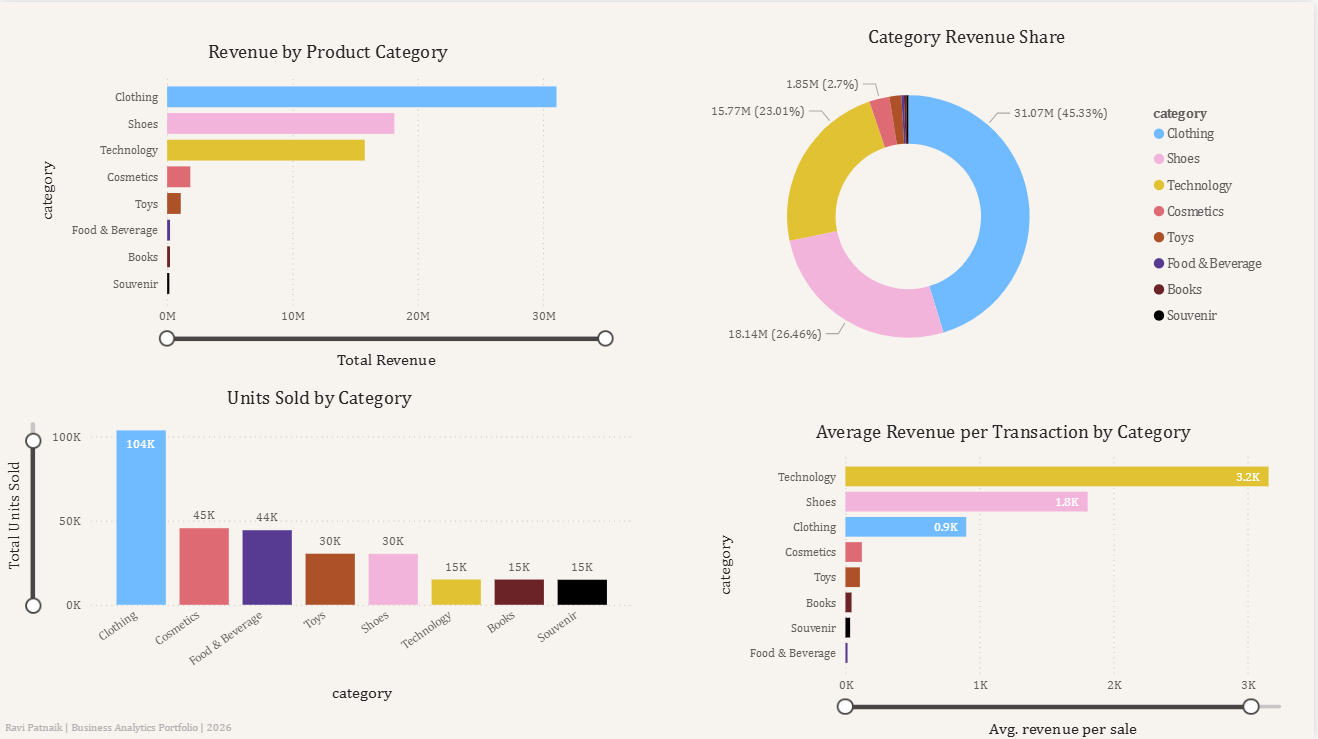

Layout of this report page (visuals, bound fields, positions):
{"tool":"powerbi","page":{"name":"Product Performance","canvas":[1280,720],"ordinal":2},"visuals":[{"type":"clusteredBarChart","title":"Revenue by Product Category","fields":{"Category":["customer_shopping_cleaned.category"],"Y":["Sum(customer_shopping_cleaned.price)"]},"box":[32.2,36.8,574.8,323.4],"z":0},{"type":"donutChart","title":"Category Revenue Share","fields":{"Category":["customer_shopping_cleaned.category"],"Y":["Sum(customer_shopping_cleaned.price)"]},"box":[640.9,22.3,601.9,351.1],"z":1000},{"type":"clusteredColumnChart","title":"Units Sold by Category","fields":{"Category":["customer_shopping_cleaned.category"],"Y":["Sum(customer_shopping_cleaned.quantity)"]},"box":[0,374.4,622.2,312.2],"z":2000},{"type":"clusteredBarChart","title":"Average Revenue per Transaction by Category","fields":{"Category":["customer_shopping_cleaned.category"],"Y":["Avg(customer_shopping_cleaned.price)"]},"box":[692.8,407.7,568.7,311.2],"z":3000},{"type":"textbox","box":[0,693.3,243.3,26.7],"z":4000}]}

Visuals, with their boxes in screenshot pixels (x1, y1, x2, y2), scaled from the page's 1280x720 canvas onto the 1318x739 screenshot:
"Revenue by Product Category" clusteredBarChart: bbox(33, 38, 625, 370)
"Category Revenue Share" donutChart: bbox(660, 23, 1280, 383)
"Units Sold by Category" clusteredColumnChart: bbox(0, 384, 641, 705)
"Average Revenue per Transaction by Category" clusteredBarChart: bbox(713, 418, 1299, 738)
textbox: bbox(0, 712, 251, 738)
